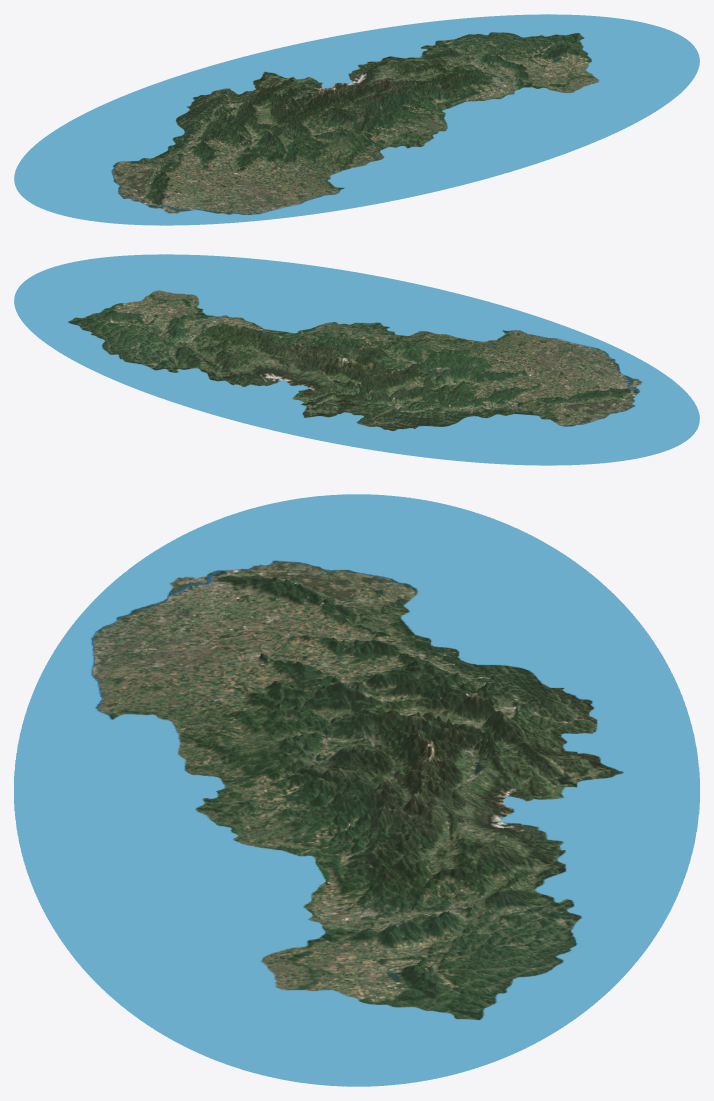
Rendered from SVK-previa-terrain.glb.
The picture shows the model from 3 angles, top to bottom: view 1: azimuth 30°, elevation 25°; view 2: azimuth 150°, elevation 25°; view 3: azimuth 270°, elevation 25°; orthographic projection. The views are drawn at different scales.
Parts seen in each view (by area): view 1: Eslováquia; view 2: Eslováquia; view 3: Eslováquia.
Boxes of the visible parts, left/top/right/bottom form: Eslováquia: left=14, top=14, right=699, bottom=225; Eslováquia: left=14, top=254, right=699, bottom=465; Eslováquia: left=14, top=494, right=699, bottom=1086.
Size of the model in its own units: 2.26 by 0.0642 by 1.11.
Materials: 1 (1 with a texture image).
